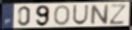0: (18, 6, 31, 27)
9: (35, 5, 52, 27)
N: (90, 4, 109, 26)
O: (53, 4, 72, 26)
U: (72, 5, 90, 26)
Z: (109, 3, 128, 26)
